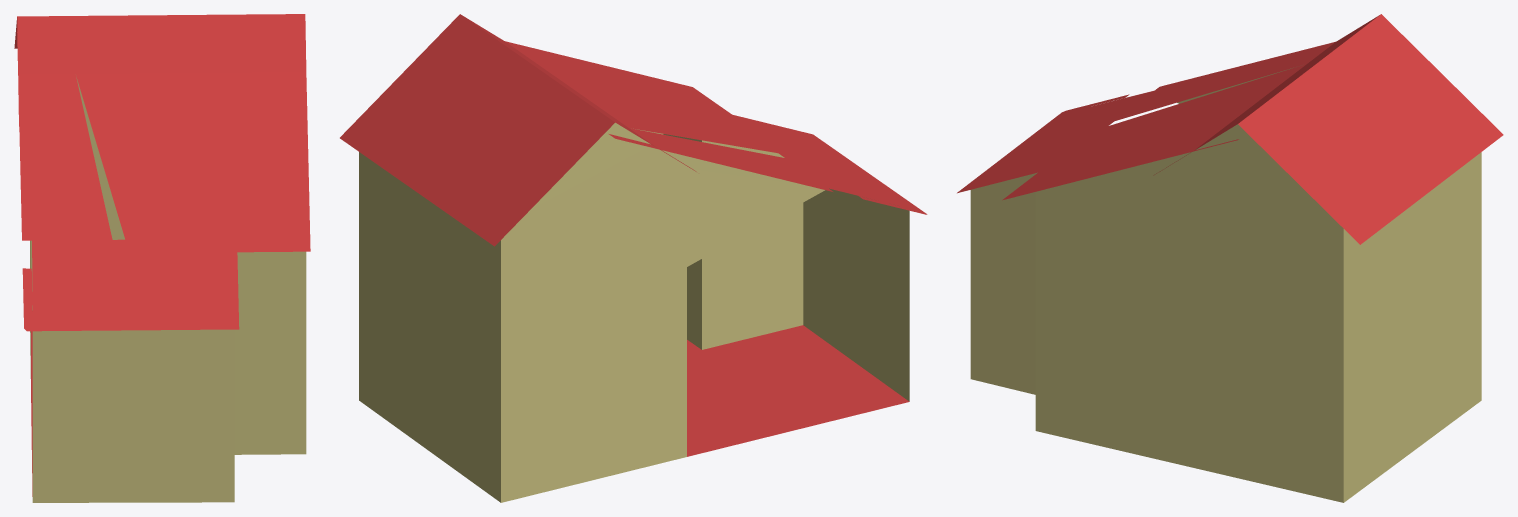
3 views of the same model, side by side, from view 1: azimuth 30°, elevation 25°; view 2: azimuth 150°, elevation 25°; view 3: azimuth 270°, elevation 25° (orthographic). The views are drawn at different scales.
Size of the model in its own units: 18.78 by 20.5 by 14.69.
